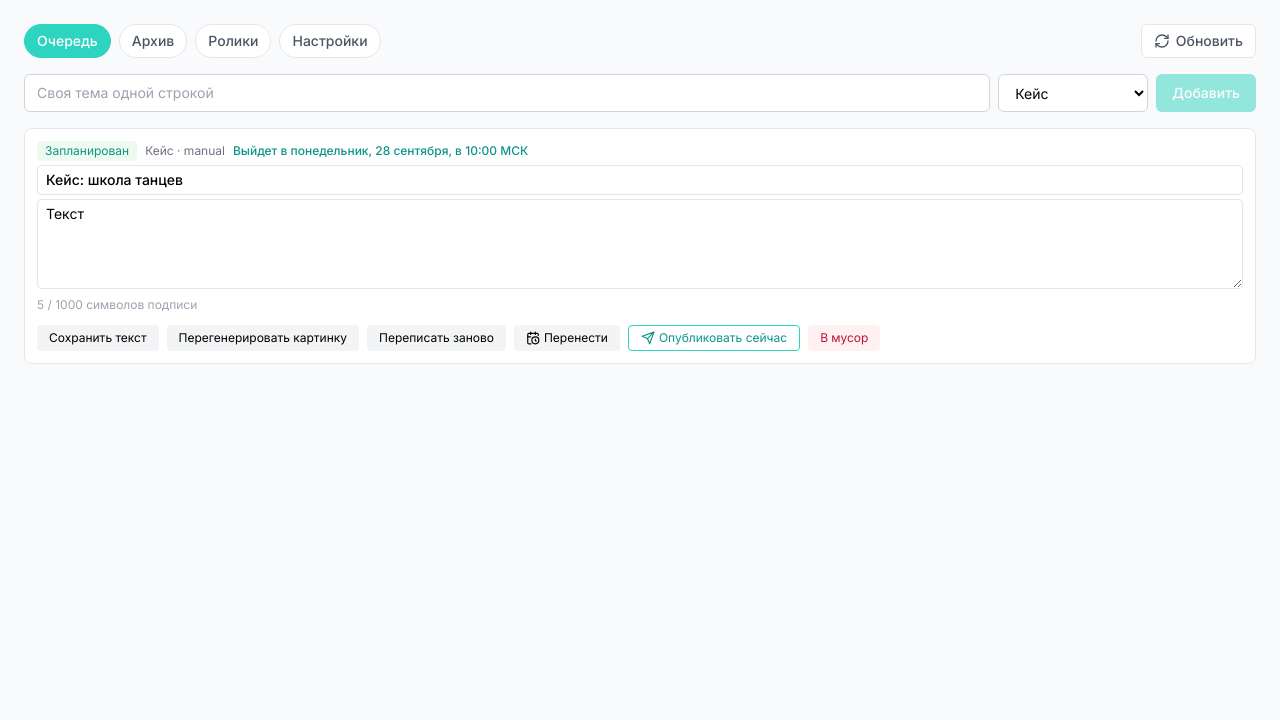
Test: перенос слота › slot_taken: называет пост, занявший слот, и перезапрашивает список
Click the button "Перенести" at (567, 338), box [514,325,620,351]
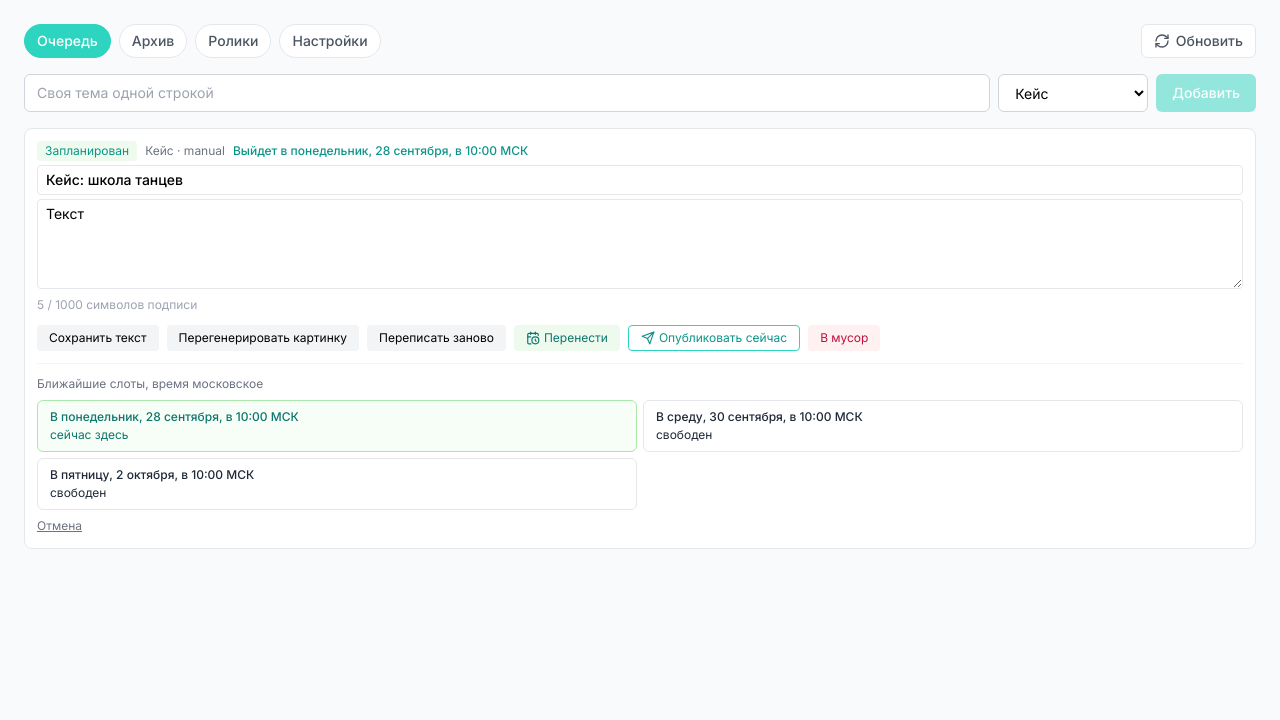
Click the button "В среду, 30 сентября, в 10:00 МСК свободен" at (759, 416), box [643,400,1243,452]
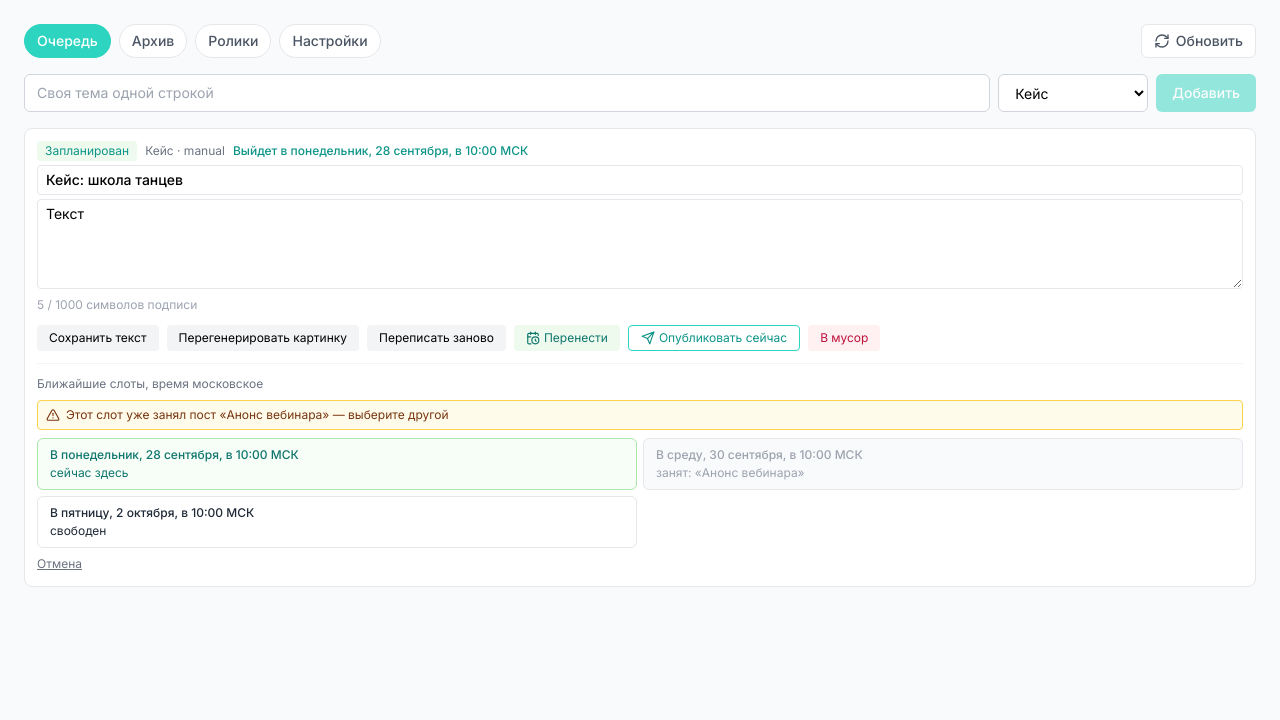
Now the element showing "Этот слот уже занял пост «Анонс вебинара» — выберите другой" is shown, box [37,400,1243,430]
